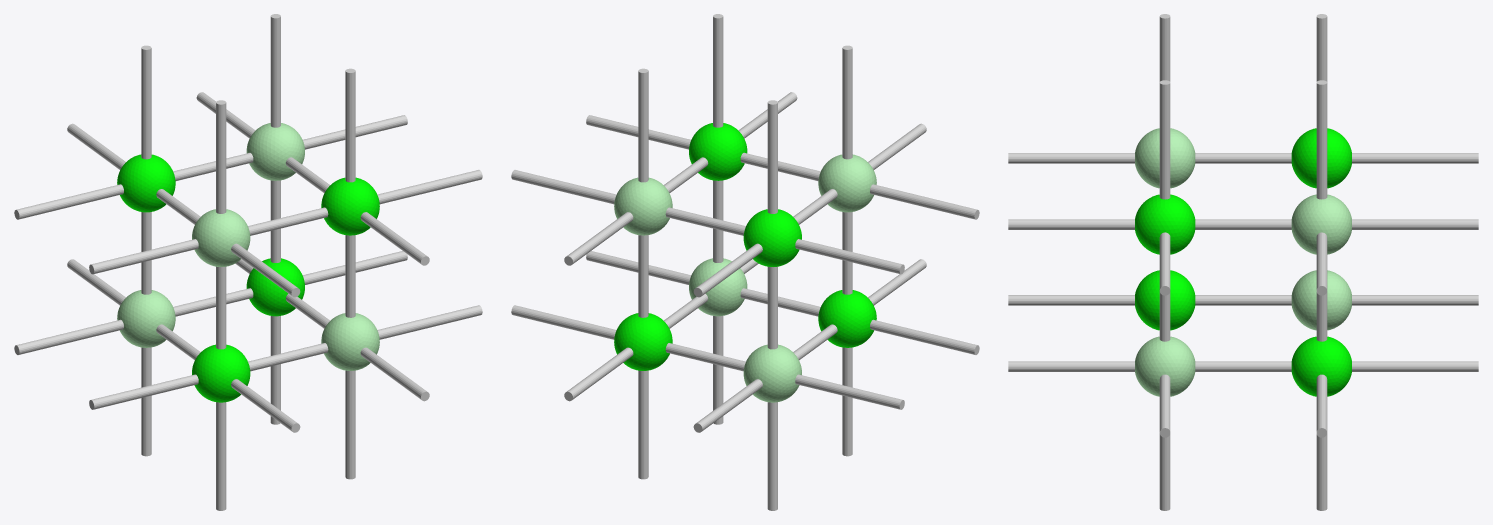
File: structure_mpstyle.glb
3 views of the same model, side by side, from view 1: azimuth 30°, elevation 25°; view 2: azimuth 150°, elevation 25°; view 3: azimuth 270°, elevation 25° (orthographic). The views are drawn at different scales.
Visible parts, largest first — view 1: world; view 2: world; view 3: world.
Part boxes in pixels (x1,y1,x2,y2): world: (14, 14, 482, 510); world: (511, 14, 979, 510); world: (1008, 14, 1478, 510).
Bounding box in the file's own units: 6.13 × 6.13 × 6.13.
